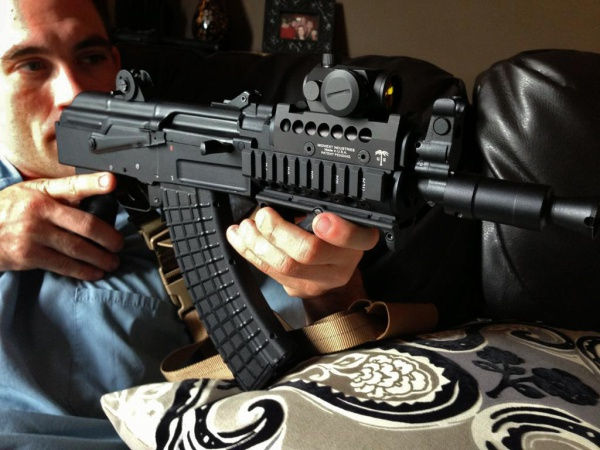ak47: (61, 69, 597, 390)
